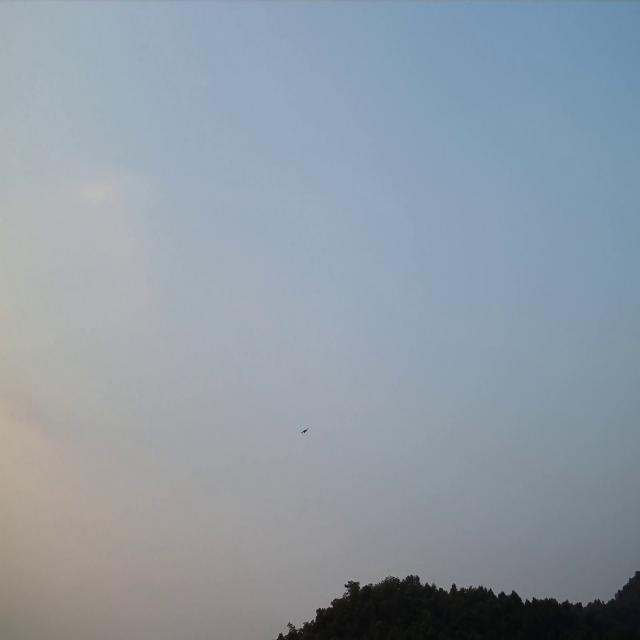drone: (301, 427, 309, 435)
